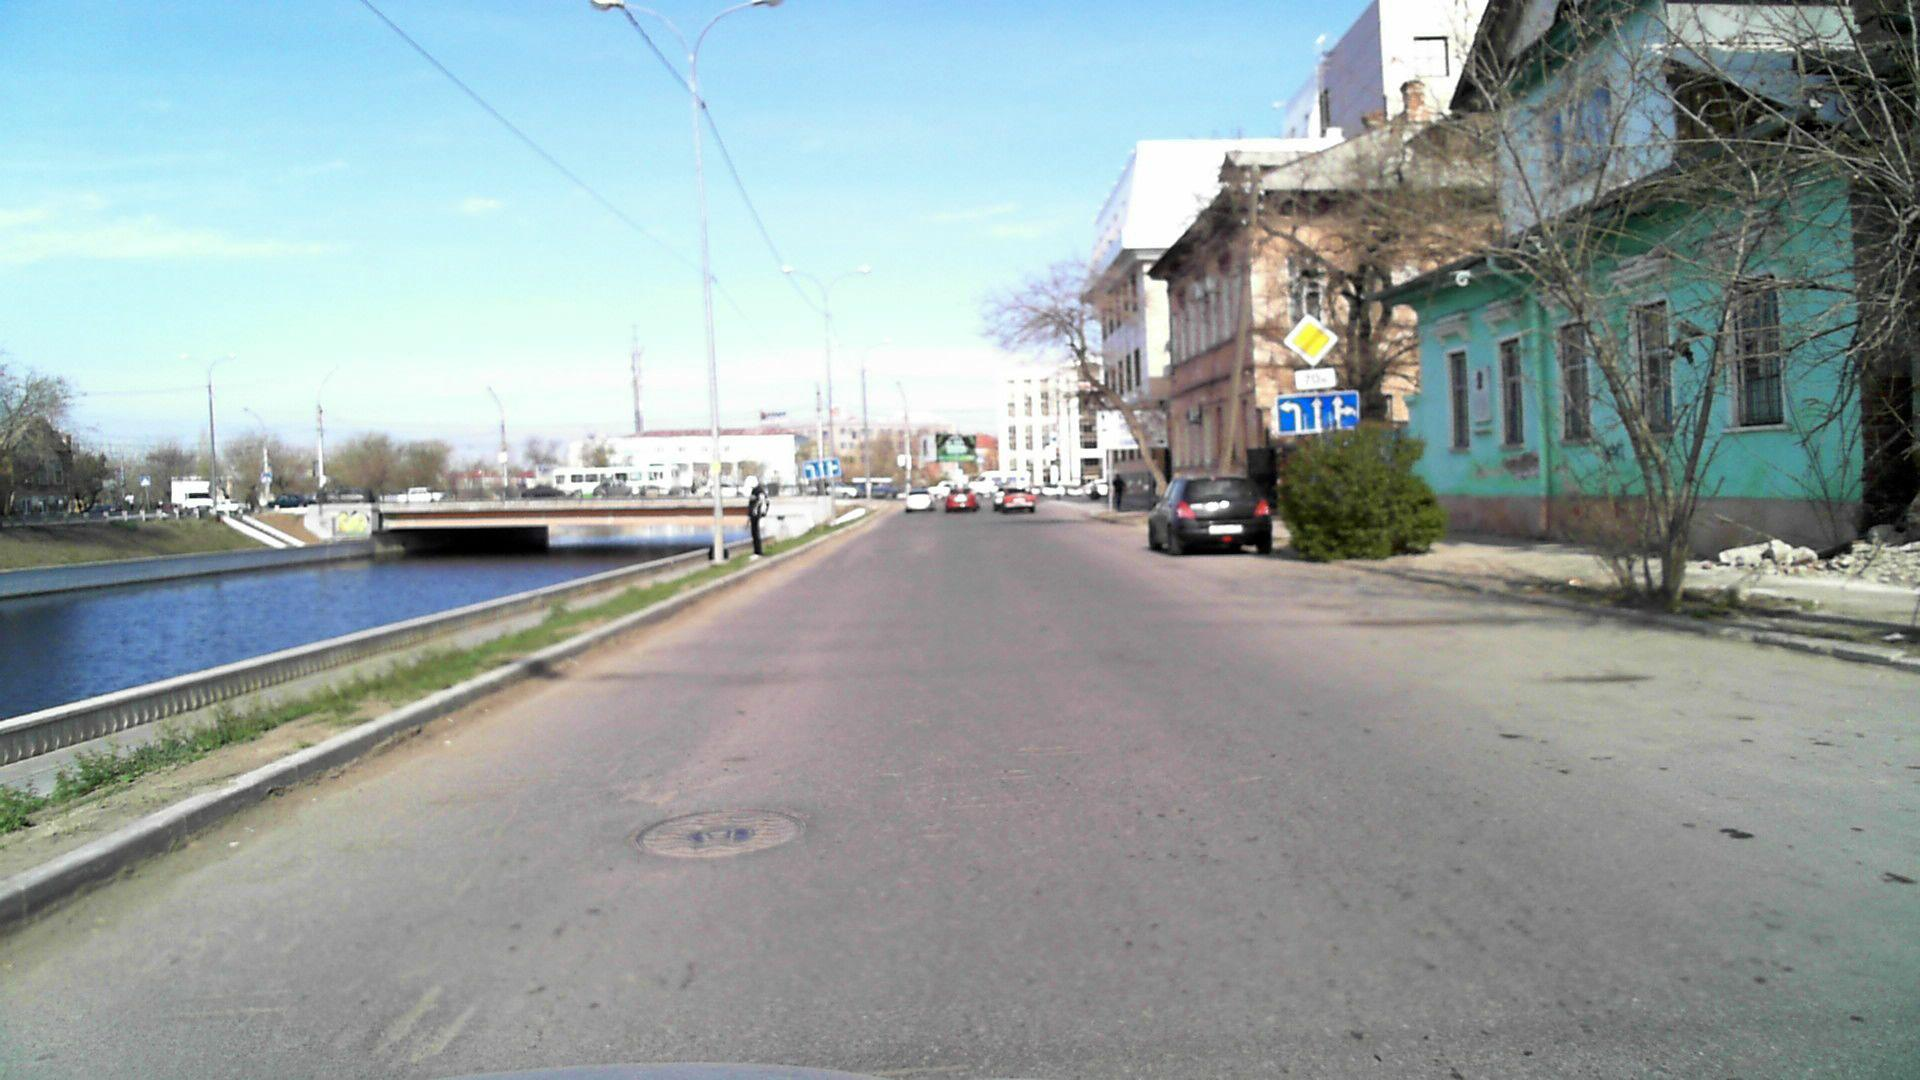2_2: (1285, 311, 1339, 368)
5_15_1: (1275, 391, 1362, 434), (804, 456, 841, 481)
8_1_1: (1293, 368, 1339, 389)
